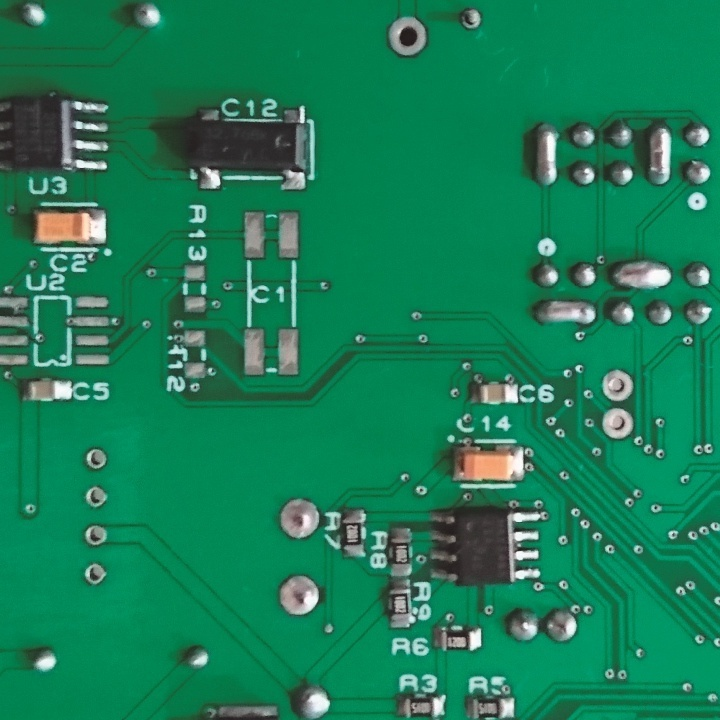F: (276, 496, 322, 543), (276, 575, 325, 618), (385, 15, 431, 59), (599, 402, 636, 442), (599, 367, 635, 403), (83, 482, 111, 509), (82, 521, 111, 547), (81, 560, 110, 586), (456, 6, 483, 33), (82, 445, 107, 472)
P: (531, 295, 599, 332), (607, 258, 675, 292), (530, 120, 562, 188), (644, 120, 674, 190)
